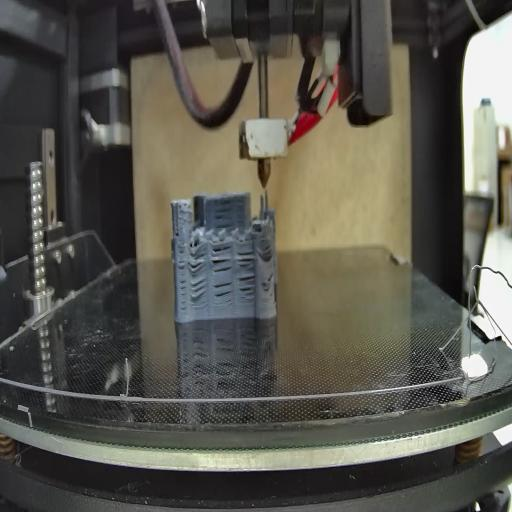cracks: (212, 197, 237, 232), (176, 247, 186, 316), (186, 244, 208, 274), (212, 246, 234, 275), (213, 280, 235, 306), (238, 274, 256, 300), (190, 279, 208, 302), (238, 249, 256, 270), (260, 240, 274, 263), (265, 270, 276, 284), (175, 224, 181, 240)
